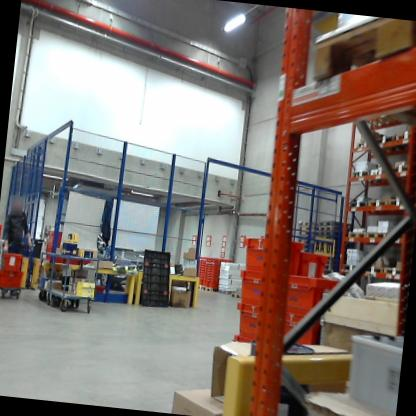pallet: (306, 11, 416, 98), (371, 132, 406, 156), (348, 166, 378, 186), (365, 262, 405, 277), (318, 217, 352, 233), (385, 195, 411, 211), (387, 162, 408, 179), (368, 195, 389, 212), (363, 229, 387, 242), (369, 164, 387, 180), (349, 195, 369, 209), (346, 229, 366, 241), (227, 287, 243, 301), (355, 139, 372, 152), (342, 262, 364, 272), (318, 224, 341, 232), (297, 220, 317, 229), (201, 284, 219, 294), (317, 229, 341, 236), (297, 238, 313, 247), (296, 230, 316, 237), (296, 226, 316, 232), (295, 235, 314, 240), (194, 282, 204, 290), (323, 264, 332, 272), (301, 246, 312, 251), (325, 257, 334, 262), (325, 261, 332, 265)
small_load_carrier: (233, 228, 303, 290), (281, 305, 340, 354), (278, 270, 344, 312), (230, 302, 278, 345), (234, 270, 286, 307), (292, 247, 336, 286), (0, 250, 29, 273), (0, 267, 26, 292), (204, 278, 222, 290), (193, 276, 205, 288)
